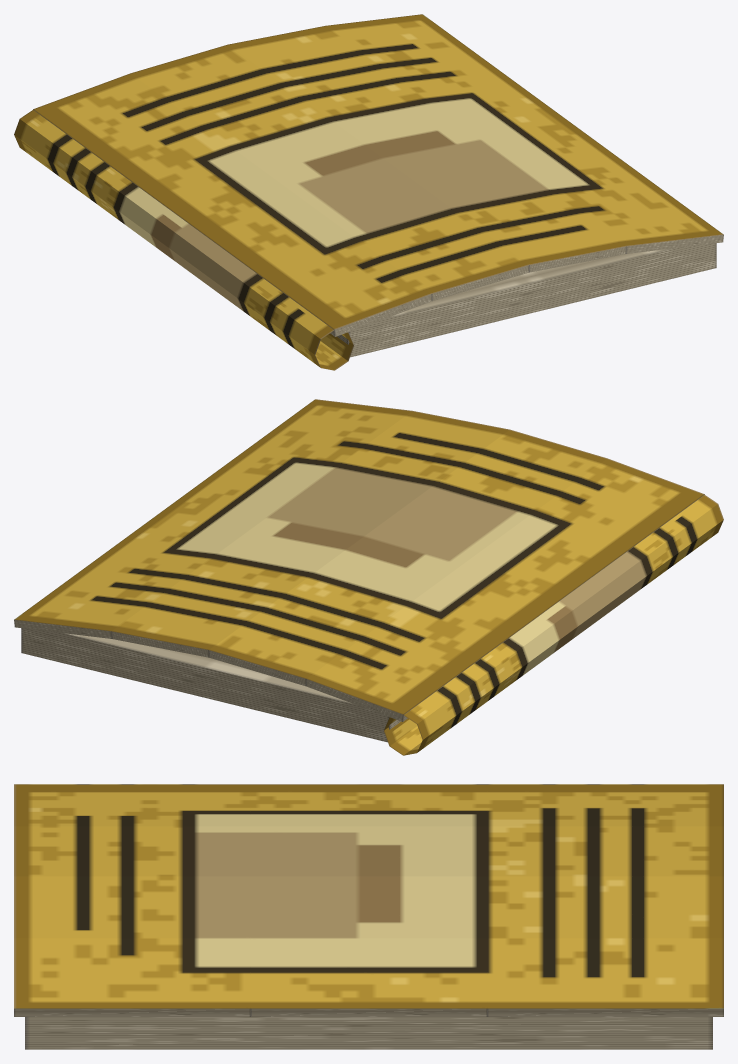
File: Item_Doc_Arch.fbx
3 renders of one model, top to bottom at view 1: azimuth 30°, elevation 25°; view 2: azimuth 150°, elevation 25°; view 3: azimuth 270°, elevation 25°, orthographic. The views are drawn at different scales.
Parts seen in each view (by area): view 1: Item_Doc_Arch; view 2: Item_Doc_Arch; view 3: Item_Doc_Arch.
Part boxes in pixels (x1,y1,x2,y2): Item_Doc_Arch: [14, 14, 723, 370]; Item_Doc_Arch: [14, 399, 723, 755]; Item_Doc_Arch: [14, 784, 723, 1049].
Size of the model in its own units: 19.97 by 2.72 by 25.5.
